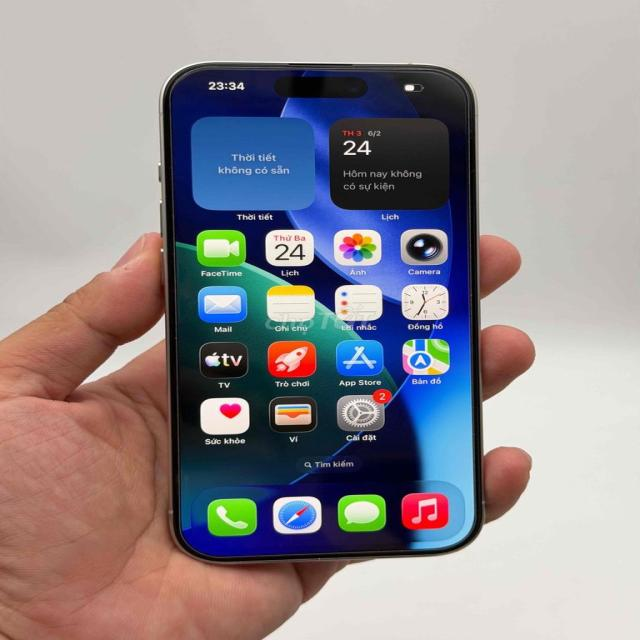gen_15: (148, 55, 492, 571)
